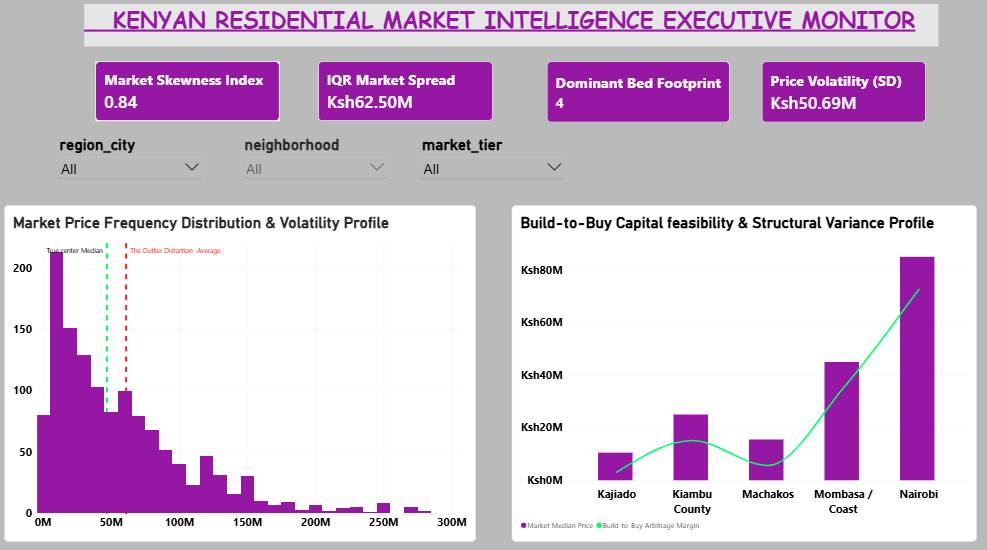

The dashboard page shown, as its layout file describes it:
{"tool":"powerbi","page":{"name":"Page 2","canvas":[1920,1080],"ordinal":1},"visuals":[{"type":"clusteredColumnChart","title":"Market Price Frequency Distribution & Volatility Profile","fields":{"Category":["kenya_real_estate view_powerbi_analytical_core.price_kes (bins)"],"Y":["CountNonNull(kenya_real_estate view_powerbi_analytical_core.property_id)"]},"box":[12.5,410,915,652.5],"z":0},{"type":"cardVisual","title":"market skewness index","fields":{"Data":["kenya_real_estate view_powerbi_analytical_core.Market Skewness Index"]},"box":[190,130,357.9,115.8],"z":1000},{"type":"cardVisual","title":"Price Volatility","fields":{"Data":["kenya_real_estate view_powerbi_analytical_core.Price Volatility (SD)"]},"box":[1482.5,130,318.4,118.4],"z":2000},{"type":"cardVisual","title":"Inter-Quartile- Range ","fields":{"Data":["kenya_real_estate view_powerbi_analytical_core.IQR Market Spread"]},"box":[620,130,339.5,115.8],"z":3000},{"type":"cardVisual","title":"Dominant Bed","fields":{"Data":["kenya_real_estate view_powerbi_analytical_core.Dominant Bed Footprint"]},"box":[1065,130,355.3,118.4],"z":4000},{"type":"lineClusteredColumnComboChart","title":"  Build-to-Buy Capital feasibility & Structural Variance Profile","fields":{"Category":["kenya_real_estate view_powerbi_analytical_core.property_type","kenya_real_estate view_powerbi_analytical_core.region_city"],"Y":["kenya_real_estate view_powerbi_analytical_core.Market Median Price"],"Y2":["kenya_real_estate view_powerbi_analytical_core.Build-to-Buy Arbitrage Margin"]},"box":[997.5,410,902.5,652.5],"z":5000},{"type":"slicer","fields":{"Values":["kenya_real_estate view_powerbi_analytical_core.neighborhood"]},"box":[470,275,288.7,87.5],"z":6000},{"type":"slicer","fields":{"Values":["kenya_real_estate view_powerbi_analytical_core.market_tier"]},"box":[815,275,288.7,87.5],"z":7000},{"type":"slicer","fields":{"Values":["kenya_real_estate view_powerbi_analytical_core.region_city"]},"box":[112.5,275,288.7,87.5],"z":8000},{"type":"textbox","box":[167.5,20,1657.5,82.5],"z":9000}]}

Visuals, with their boxes in screenshot pixels (x1, y1, x2, y2), scaled from the page's 1920x1080 canvas onto the 987x550 screenshot:
"Market Price Frequency Distribution & Volatility Profile" clusteredColumnChart: bbox=(6, 209, 477, 541)
"market skewness index" cardVisual: bbox=(98, 66, 282, 125)
"Price Volatility" cardVisual: bbox=(762, 66, 926, 127)
"Inter-Quartile- Range " cardVisual: bbox=(319, 66, 493, 125)
"Dominant Bed" cardVisual: bbox=(547, 66, 730, 127)
"  Build-to-Buy Capital feasibility & Structural Variance Profile" lineClusteredColumnComboChart: bbox=(513, 209, 977, 541)
slicer - kenya_real_estate view_powerbi_analytical_core.neighborhood: bbox=(242, 140, 390, 185)
slicer - kenya_real_estate view_powerbi_analytical_core.market_tier: bbox=(419, 140, 567, 185)
slicer - kenya_real_estate view_powerbi_analytical_core.region_city: bbox=(58, 140, 206, 185)
textbox: bbox=(86, 10, 938, 52)
